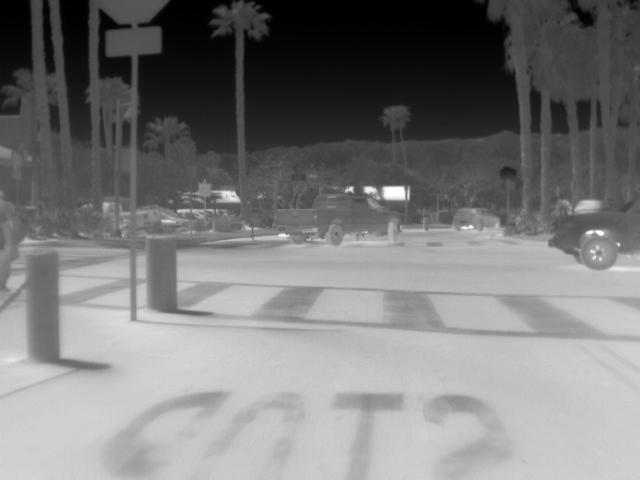car: (271, 193, 407, 249), (547, 191, 638, 273), (450, 207, 502, 231), (575, 196, 604, 215), (137, 210, 159, 231), (101, 200, 116, 228)
person: (4, 186, 27, 292)
